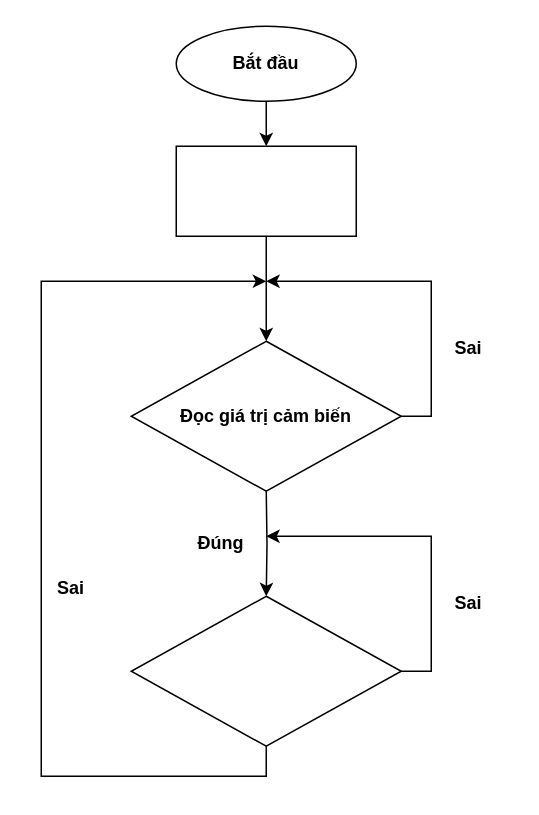
This 539x815 diagram has some shape labels left out. The shapes that lost their labels are listed below. From the top down, each one's centre as x and y in pixels, then its label:
At (265,190): "Khởi tạo WiFi Khởi tạo MQTT".
At (265,670): "Gửi dữ liệu lên Webserver".
